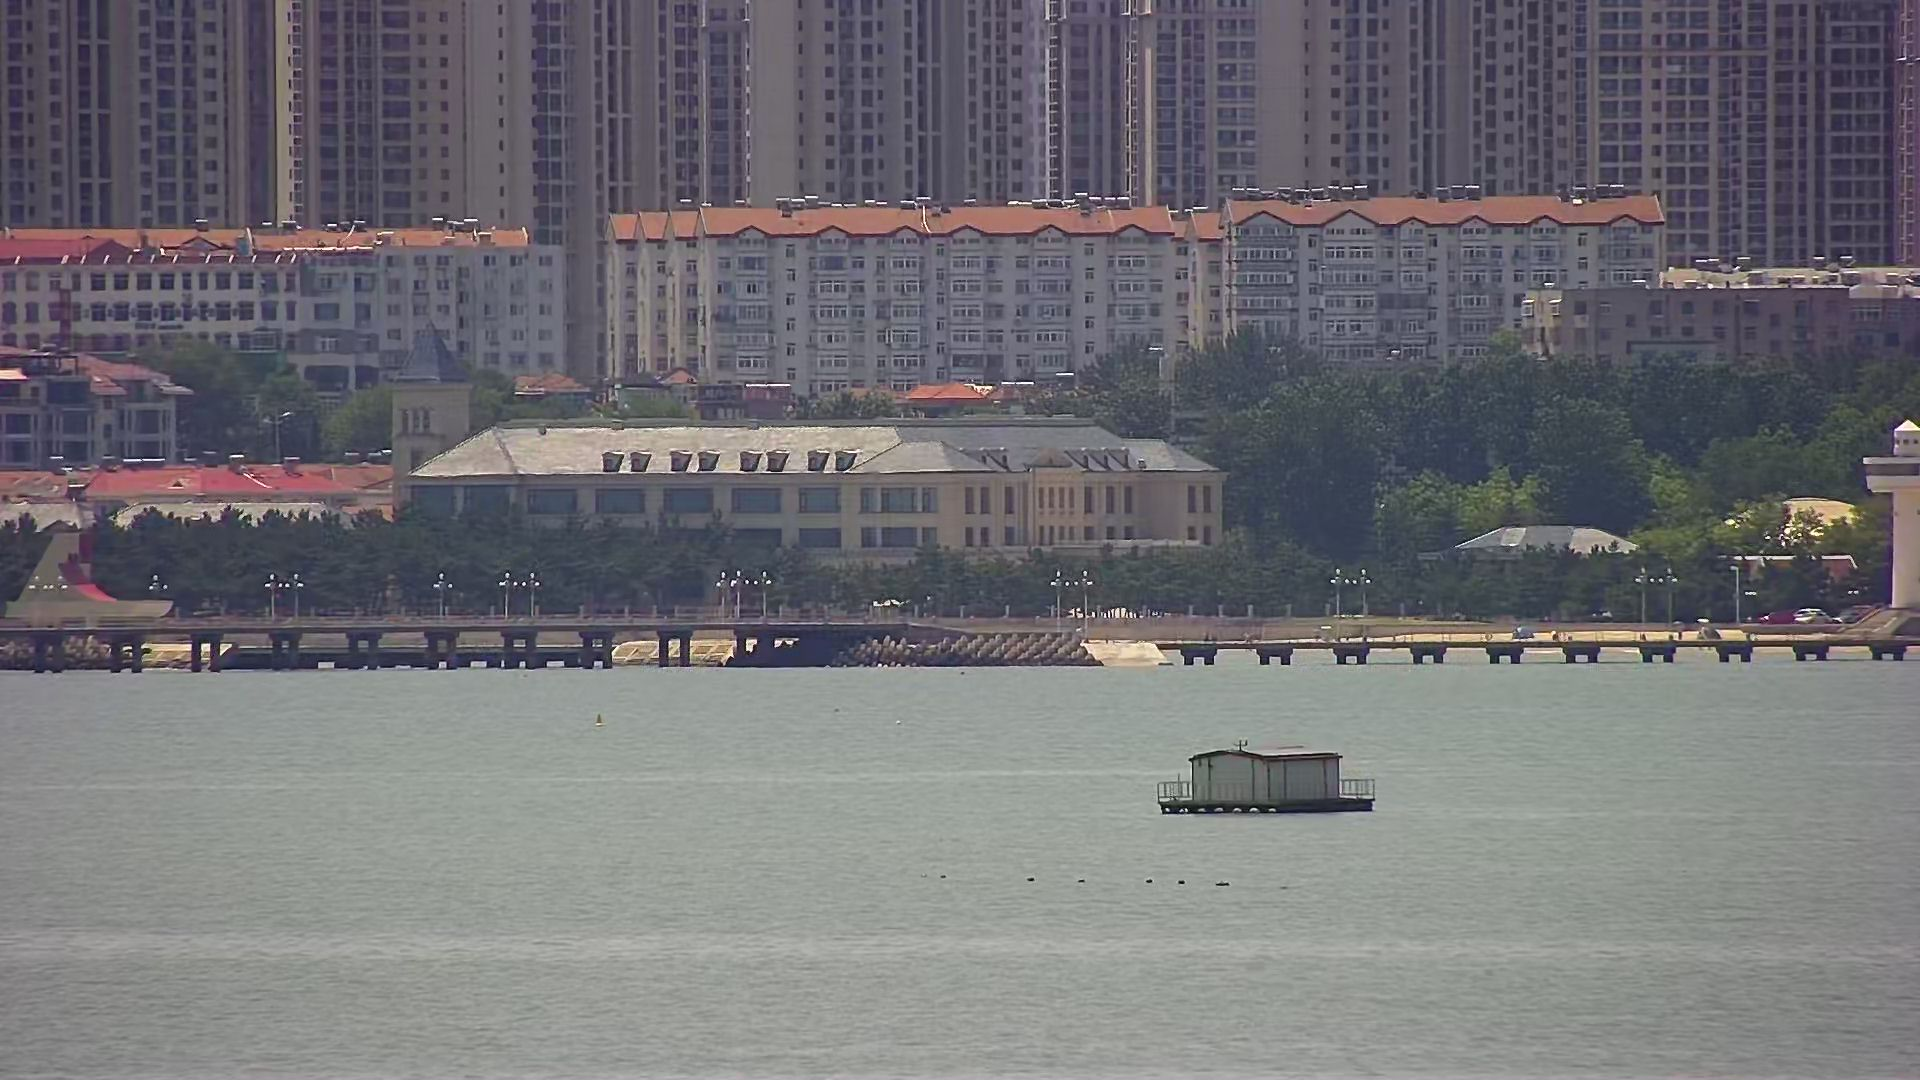bridge: (1, 622, 1920, 680)
platform: (1158, 732, 1378, 820)
